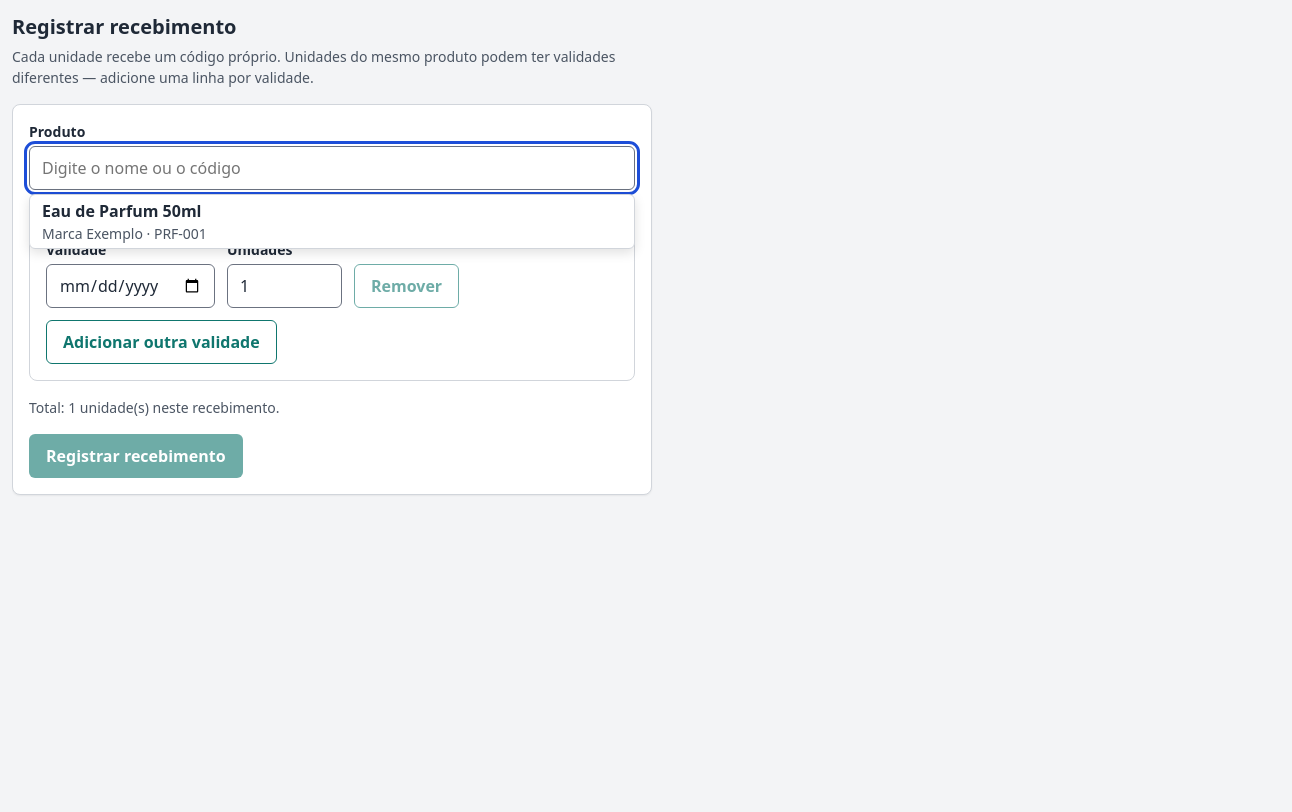
Test: TelaRecebimento (RF03) › limpa as linhas depois do envio para não duplicar etiquetas
This screenshot has width=1292, height=812.
Click the option "Eau de Parfum 50ml Marca Exemplo · PRF-001": (124, 222) [42,200,207,243]
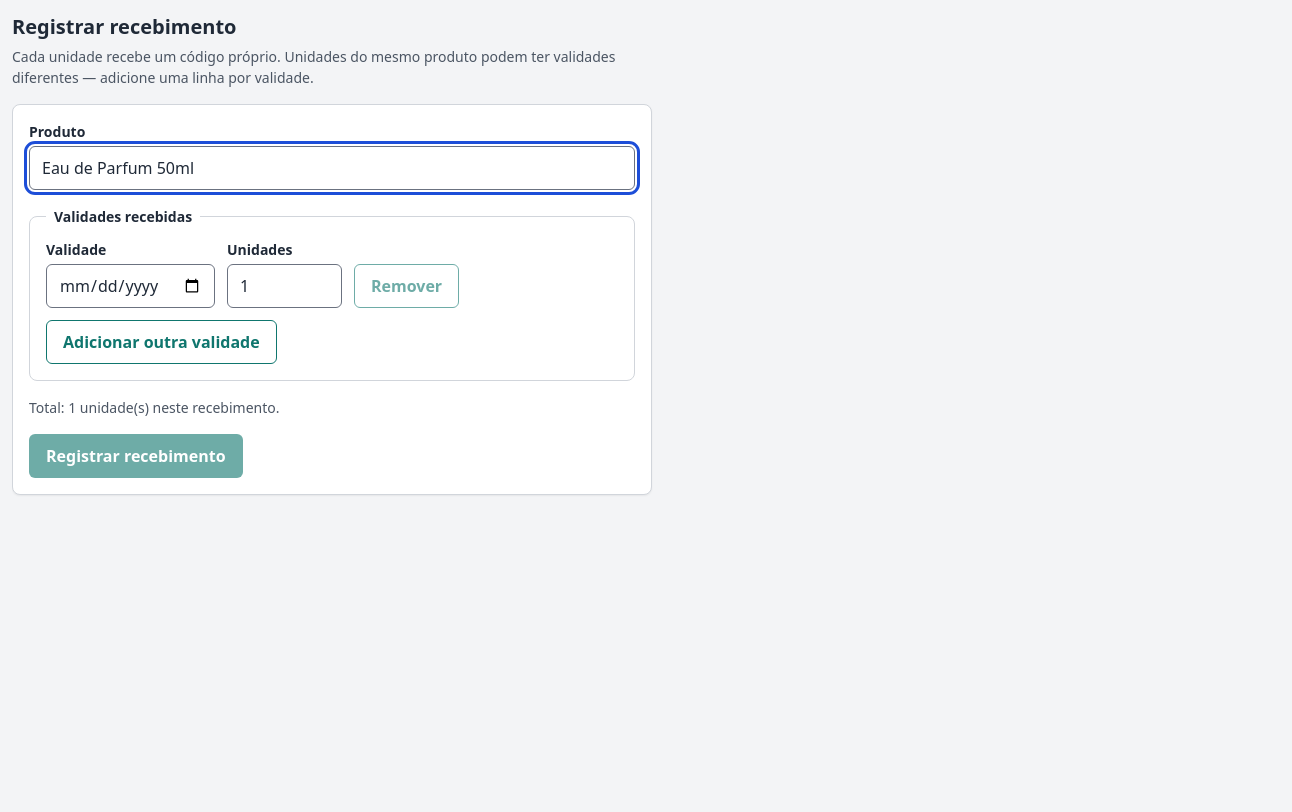
In the date field labelled "Validade": (130, 286) [46,264,215,308], type "2027-03-01"
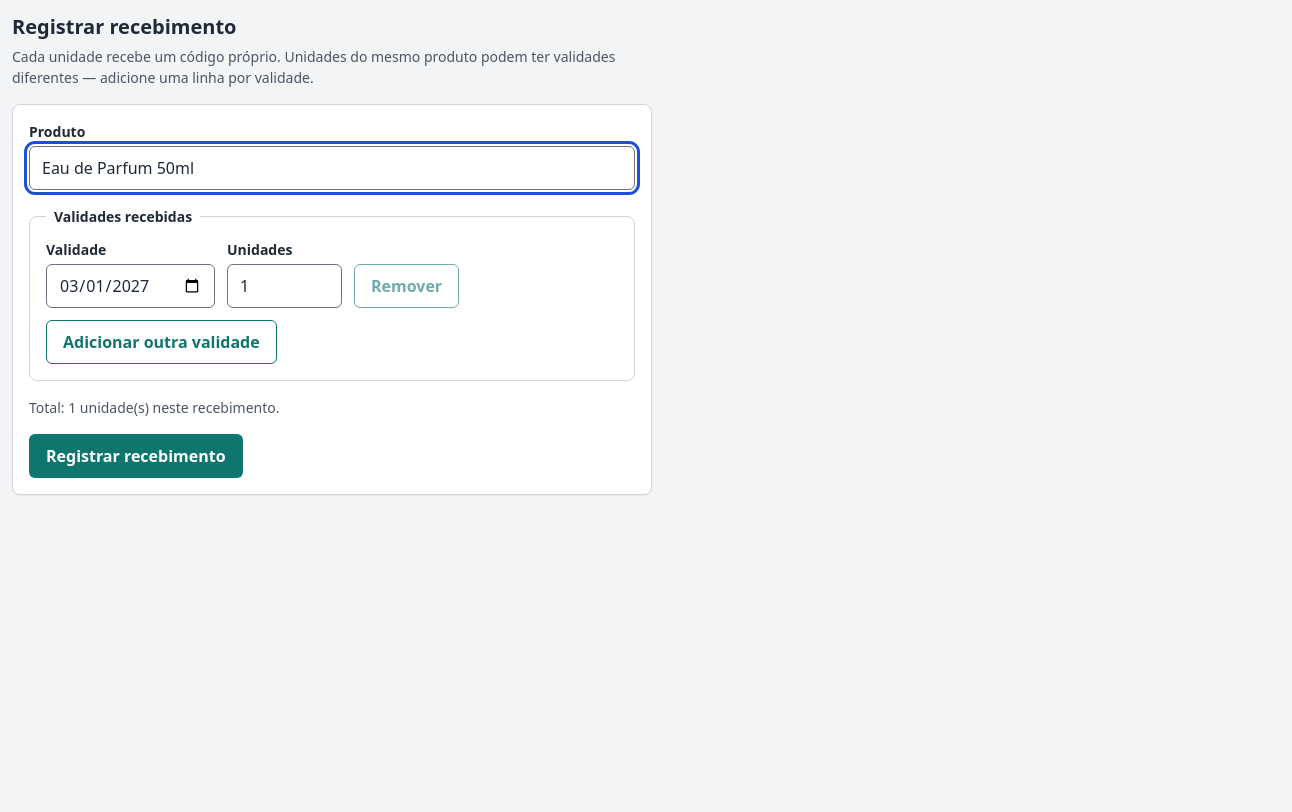
Click the button "Registrar recebimento": (136, 456) [29,434,243,478]
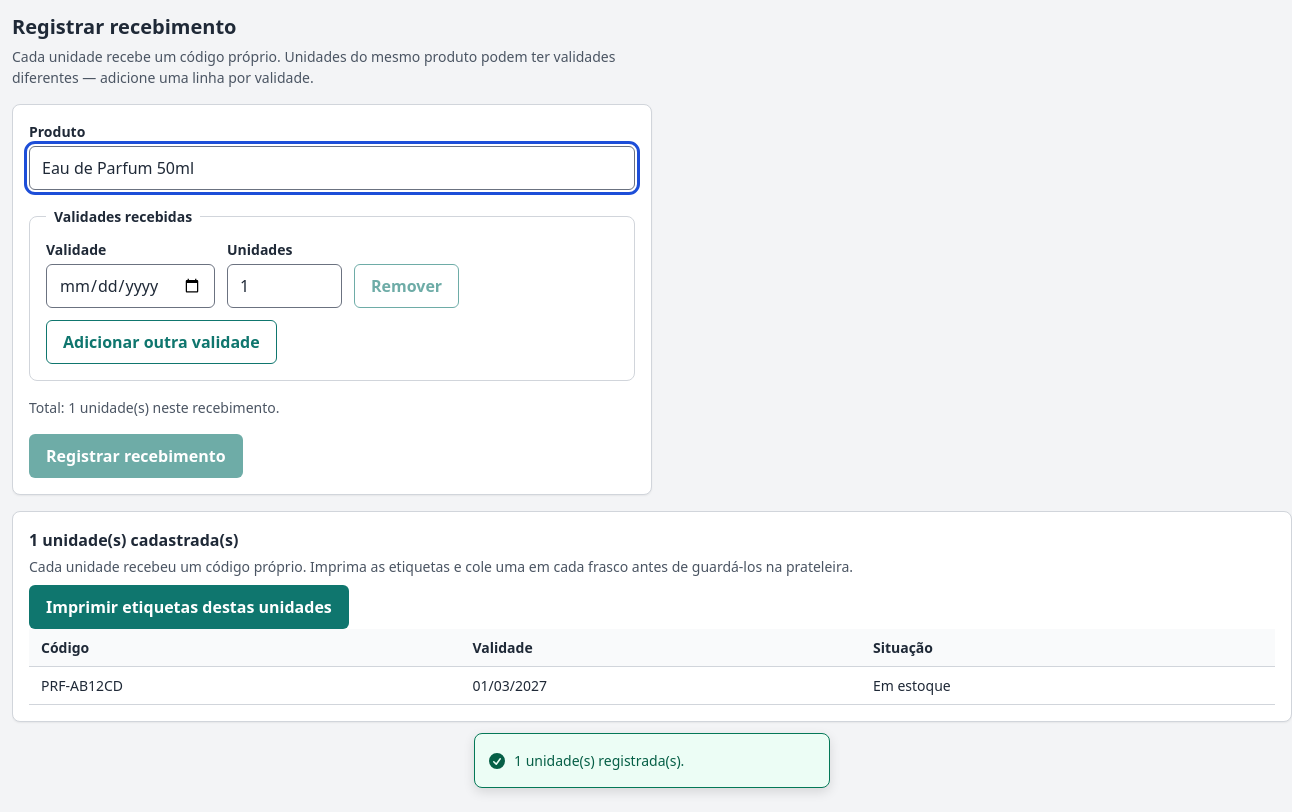
Expected: the text "PRF-AB12CD" is shown, [29,666,460,704]
Expected: the date field labelled "Validade" is empty, [46,264,215,308]
Expected: the button "Registrar recebimento" is disabled, [29,434,243,478]
